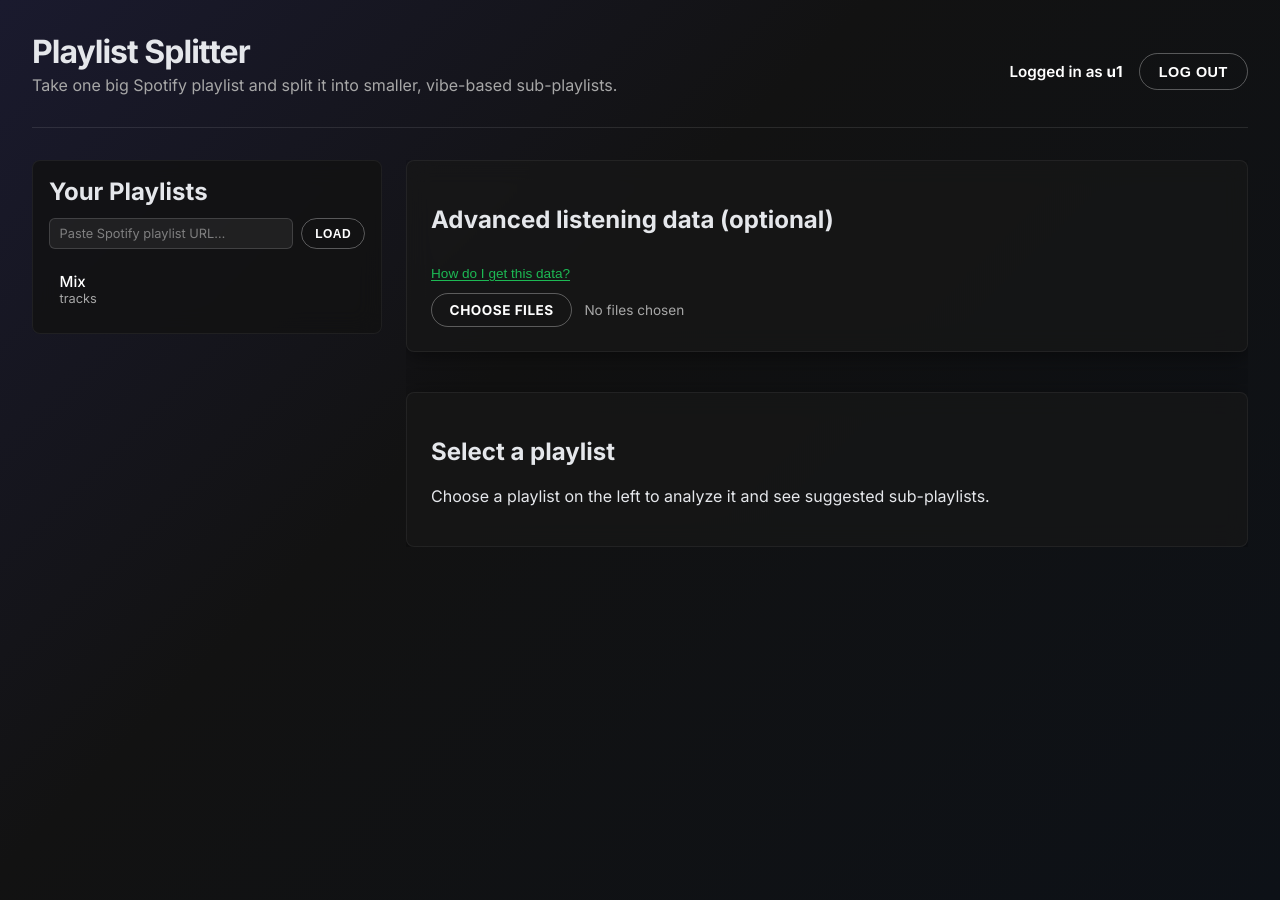
Test: Quota UI › renders the 'N/M this month' pill after a successful analysis
Click the text "Mix" at (73, 282), box [60, 272, 86, 291]
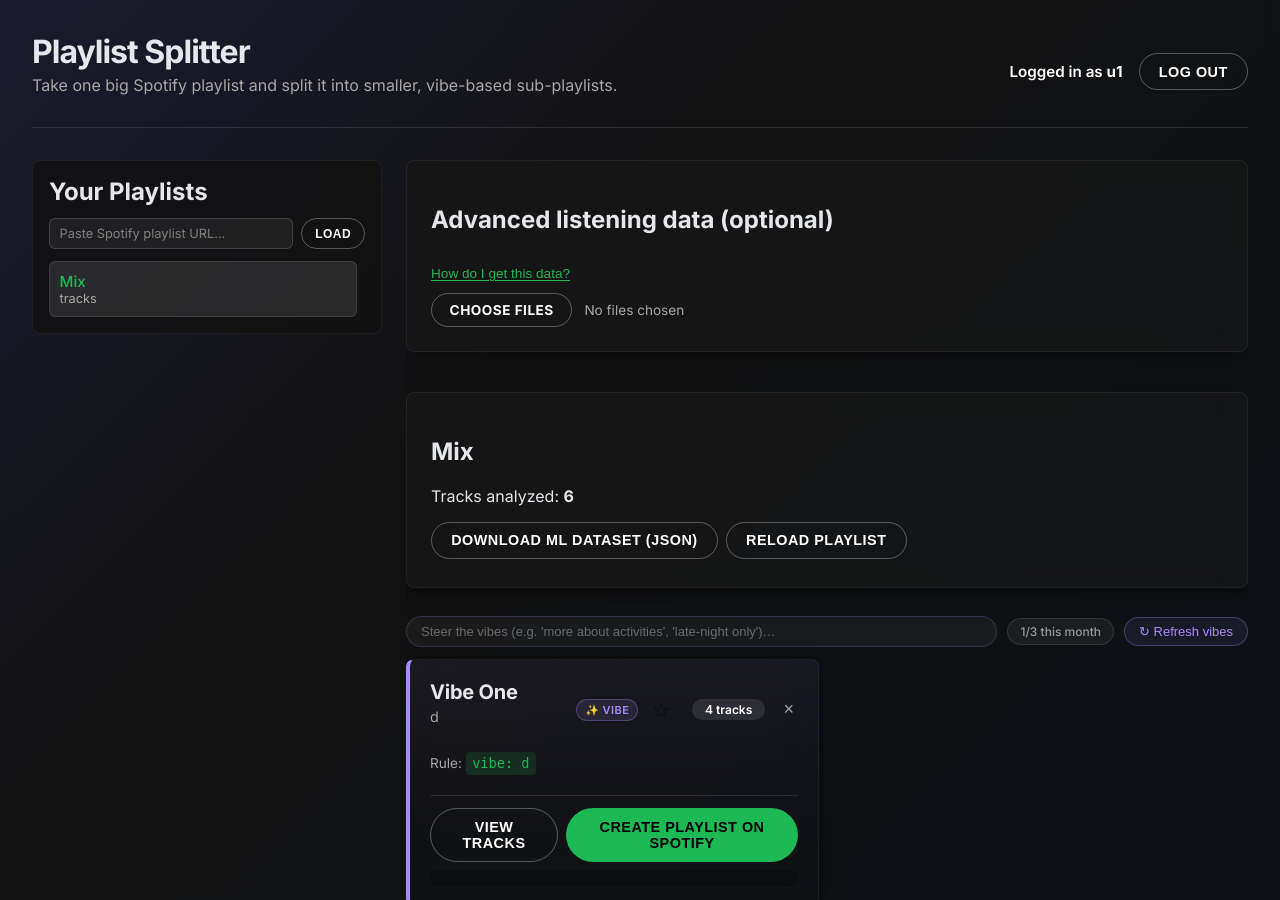
Expected: the heading "Vibe One" is shown, [430, 680, 518, 705]
Expected: the text "1/3 this month" is shown, [1007, 618, 1114, 645]
